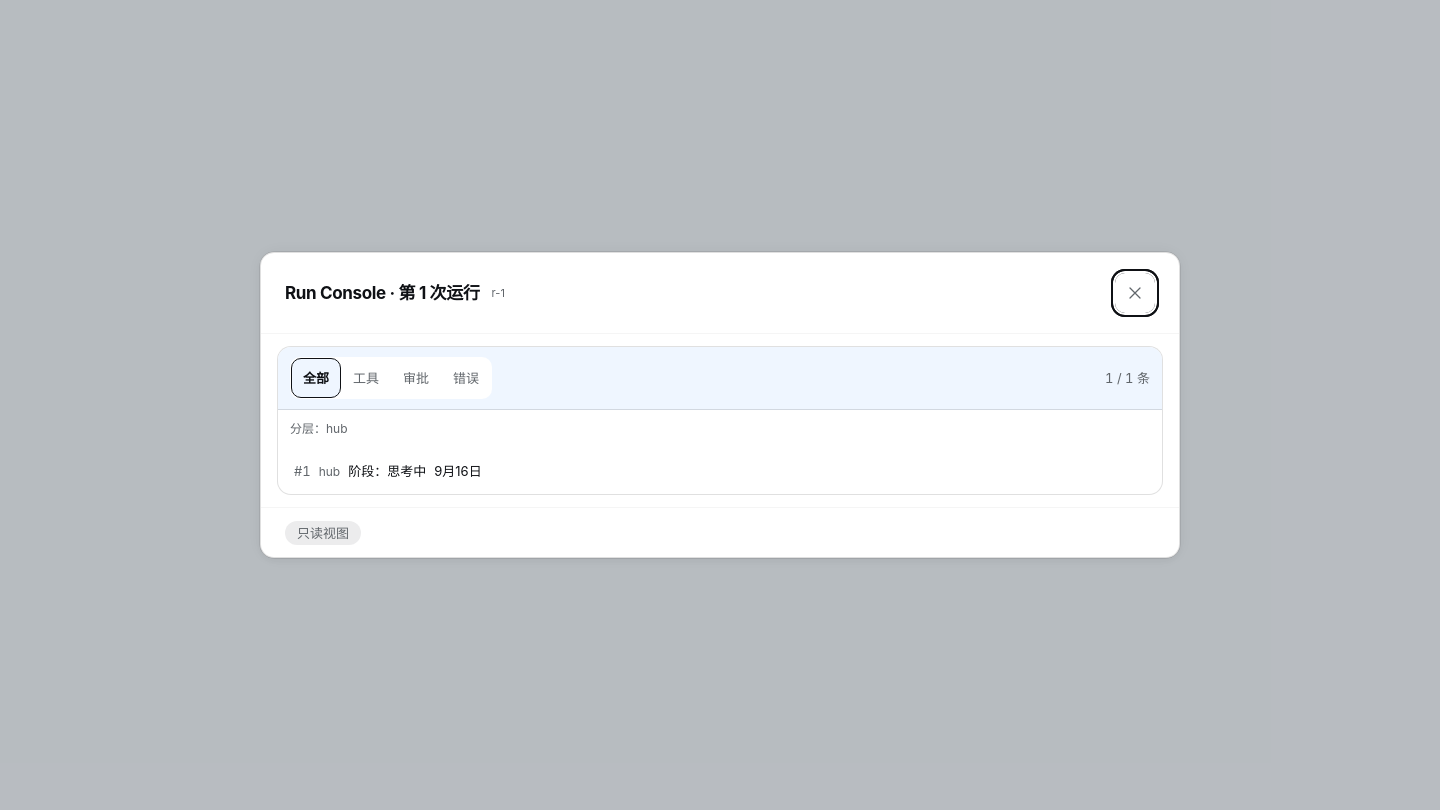
Test case: Console 覆盖层 › 筛选后没有事件时给出空态，而不是一片空白
Click the button with test id "console-filter-approval": [416, 378] box 391,358 -> 441,398
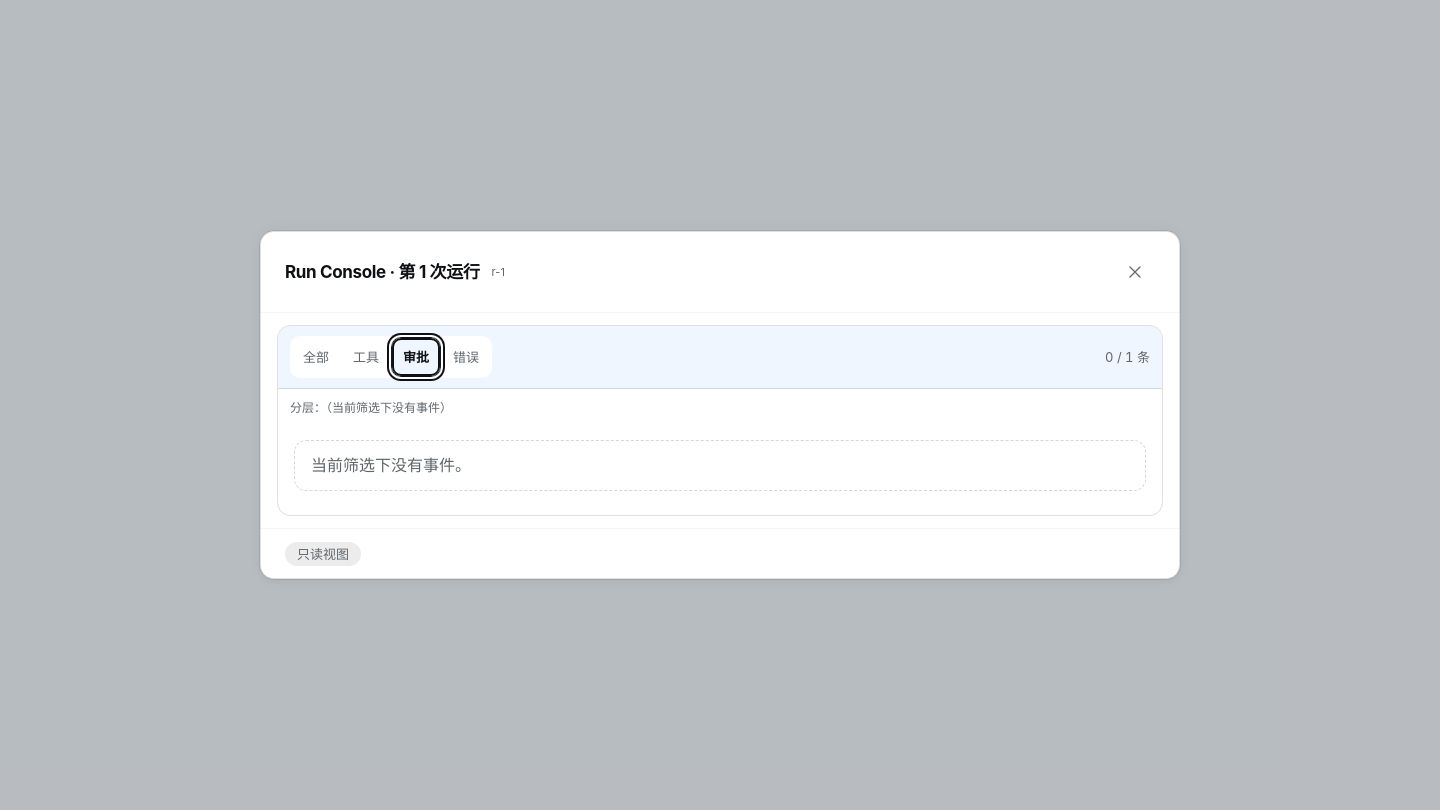
Expected: the text "当前筛选下没有事件。" is shown, 294,440 -> 1146,491
